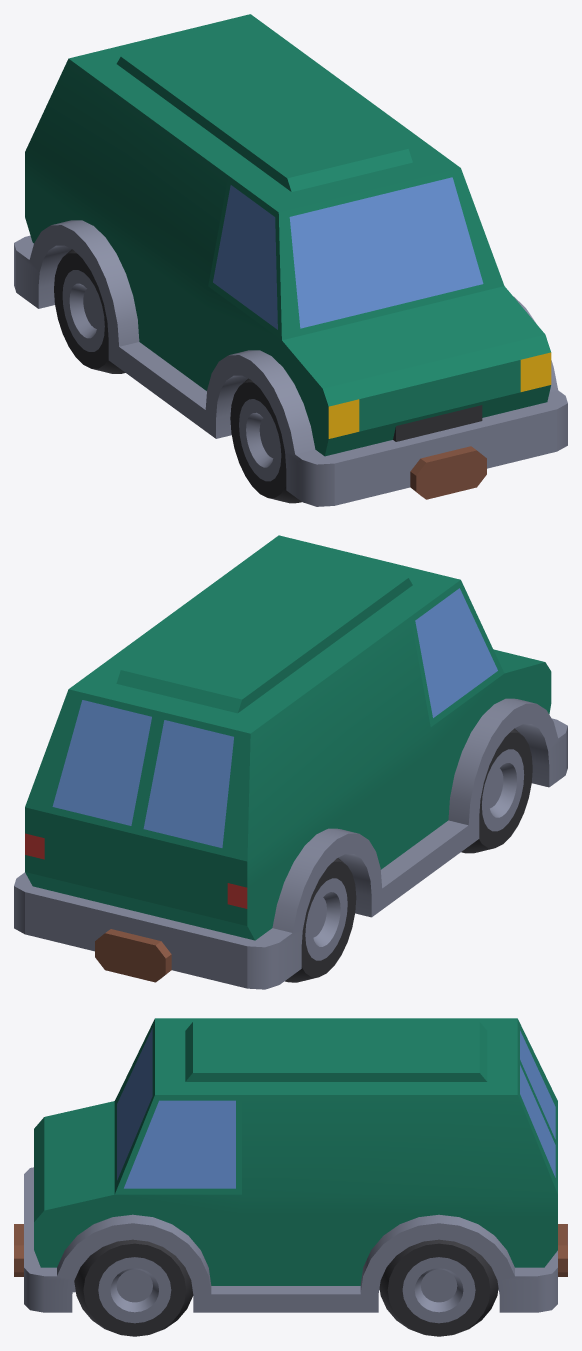
The model's file is Van_Green.fbx.
3 renders of one model, top to bottom at view 1: azimuth 30°, elevation 25°; view 2: azimuth 150°, elevation 25°; view 3: azimuth 270°, elevation 25°, orthographic. The views are drawn at different scales.
Parts seen in each view (by area): view 1: van-green; view 2: van-green; view 3: van-green.
Part boxes in pixels (x1,y1,x2,y2): van-green: (14,14,567,506); van-green: (14,535,567,989); van-green: (14,1018,567,1336).
Bounding box in the file's own units: 97.82 × 207 × 102.
